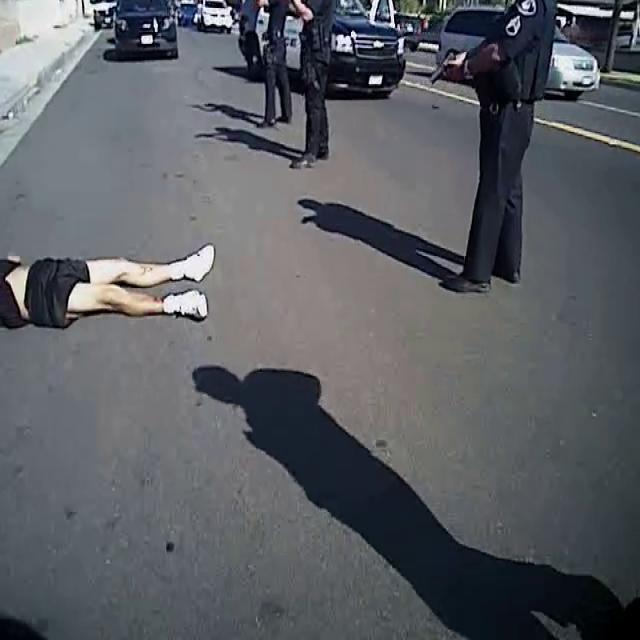gun: (428, 37, 470, 103)
